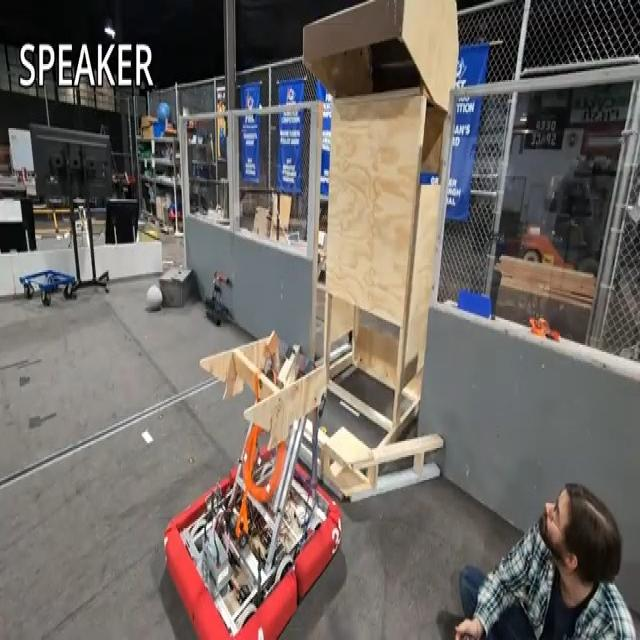note: (245, 422, 288, 502)
robot: (161, 326, 346, 640)
